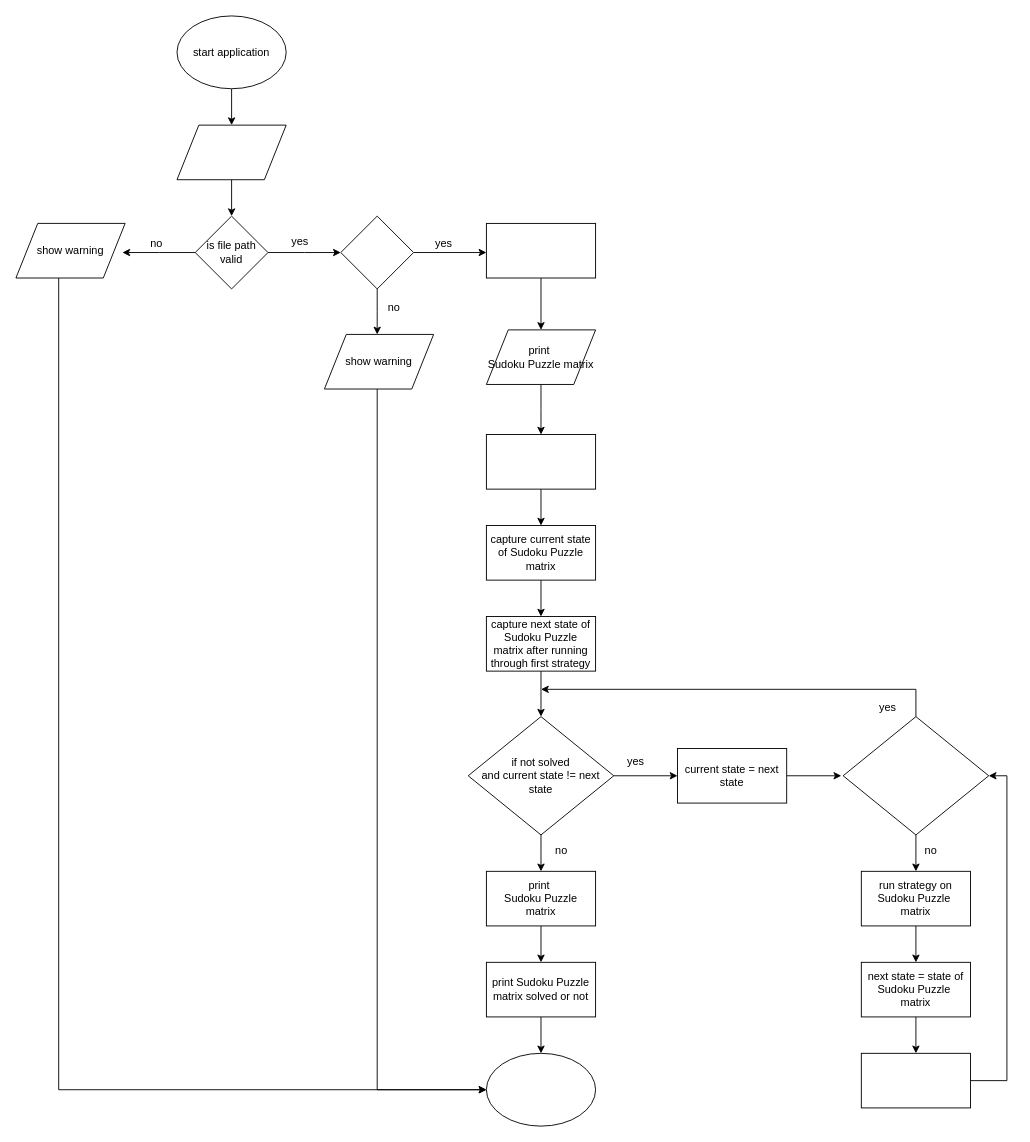
The diagram is 1030 pixels wide and 1142 high, and some of its shapes have lost their labels. Each missing label, with the centre of its shape:
"convert Sudoku Puzzle file contents into matrix" goes at pixel 540 250.
"exit application" goes at pixel 540 1089.
"initialize list of strategies" goes at pixel 540 461.
"input file path for Sudoku Puzzle" goes at pixel 231 152.
"is end of strategies list reached" goes at pixel 915 775.
"is valid format" goes at pixel 377 252.
"move to next strategy in list" goes at pixel 915 1080.
